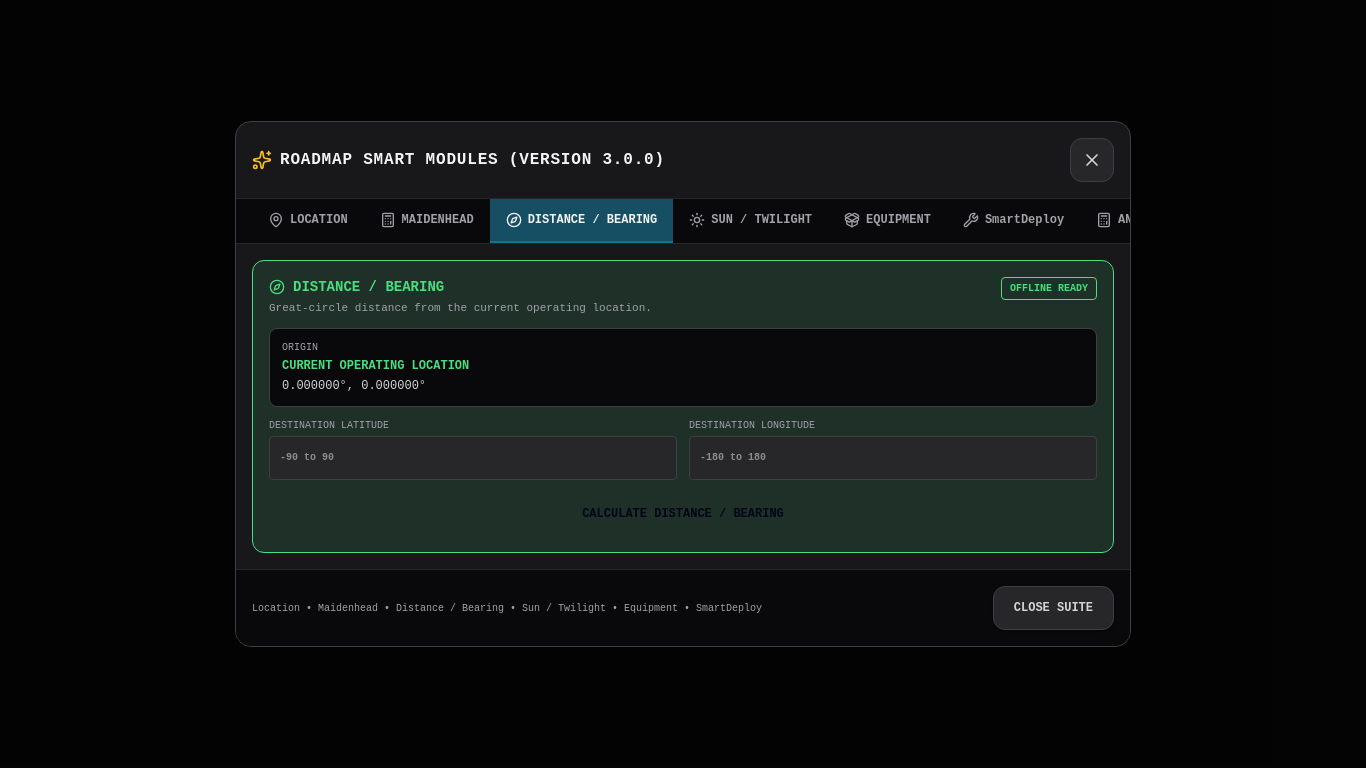
Test: Field Tools coordinate workspace › calculates distance and bearing from the operating location
Type "1" into the field labelled "Destination latitude".
click(473, 458); type("1")  # box [269,436,677,480]
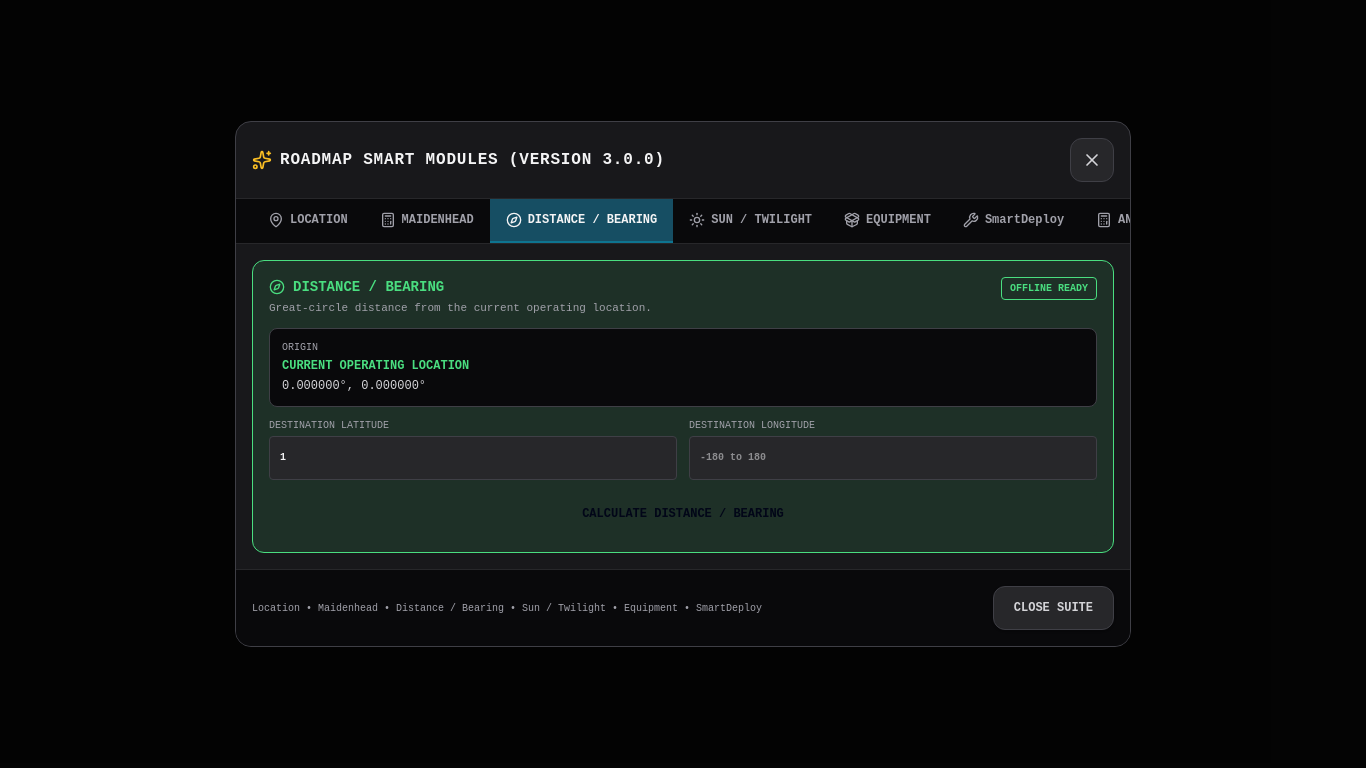
Type "0" into the field labelled "Destination longitude".
click(893, 458); type("0")  # box [689,436,1097,480]
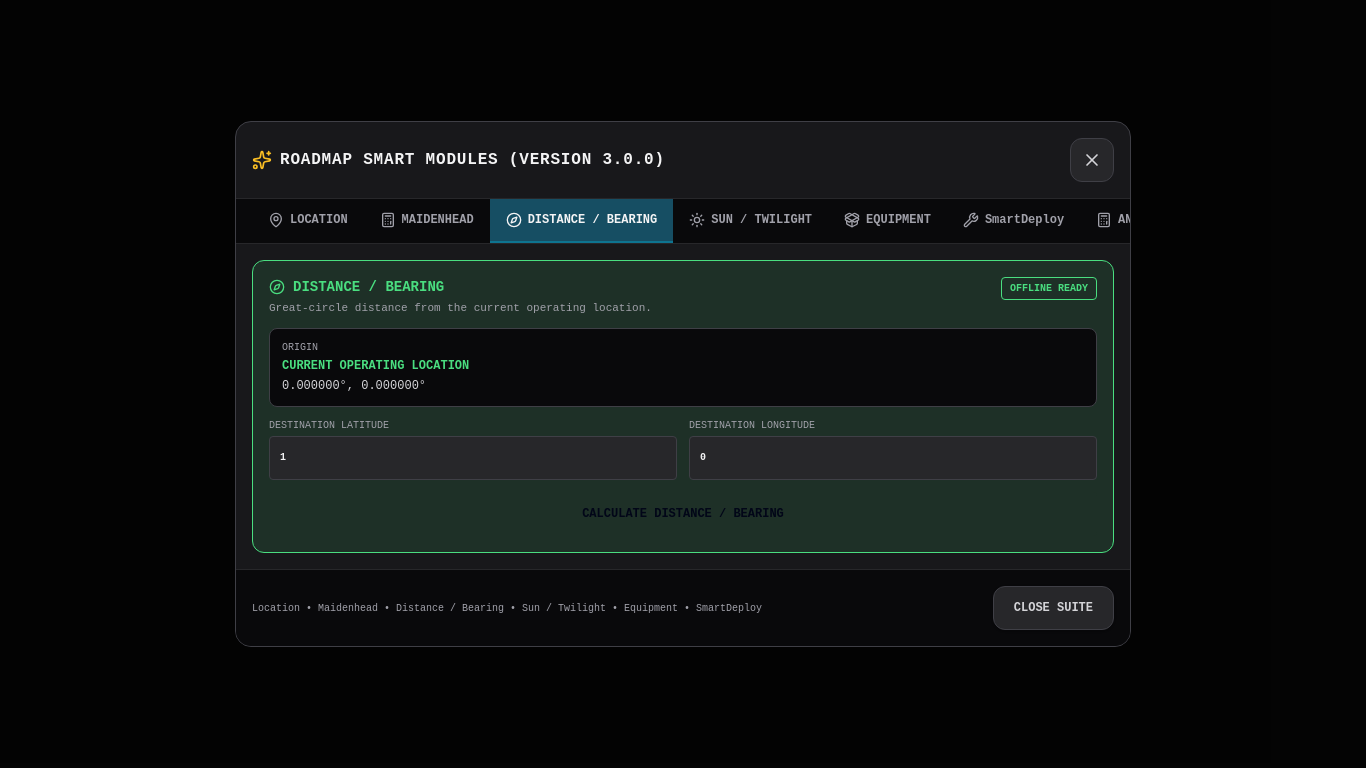
Click the button "CALCULATE DISTANCE / BEARING".
click(683, 514)  # box [269,492,1097,536]
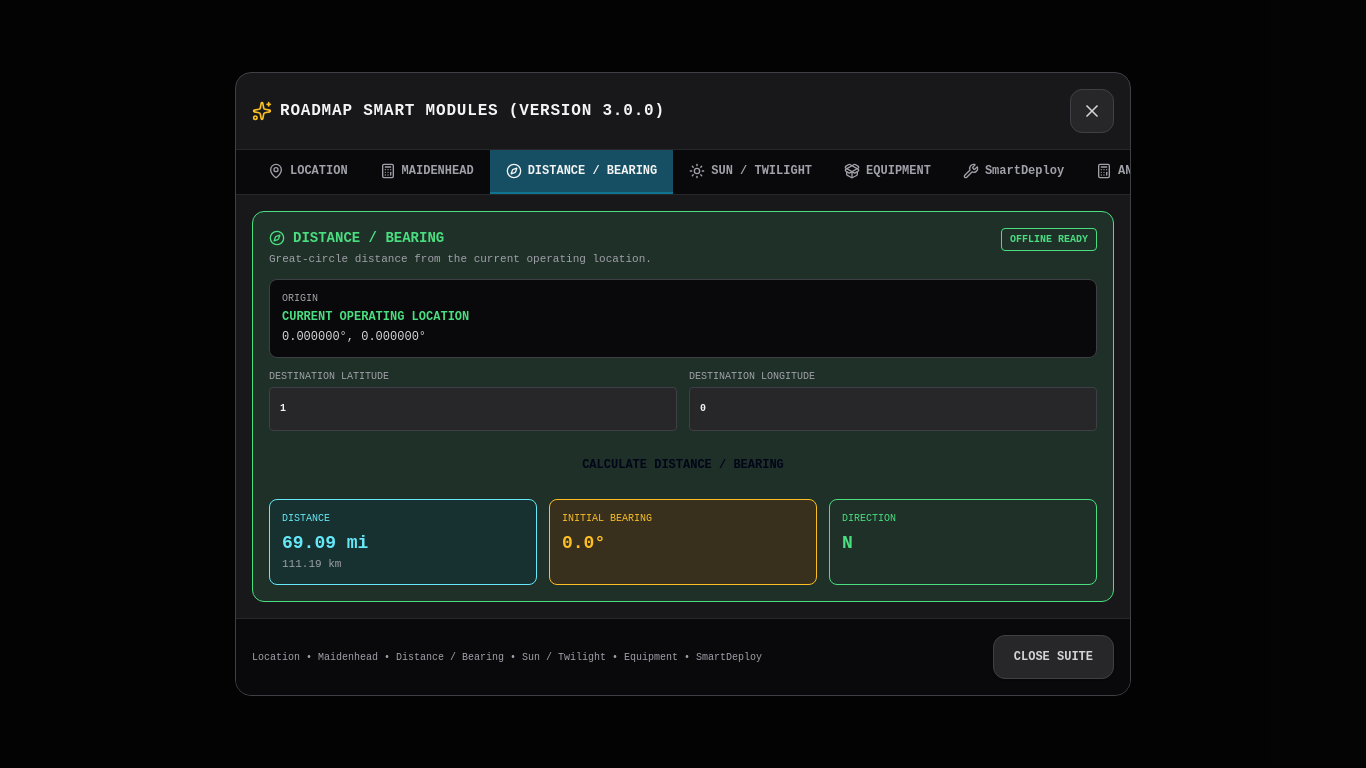
Expected: the text "DISTANCE" is shown, [282,513,330,524]
Expected: the text "0.0°" is shown, [562,534,605,554]
Expected: the text "N" is shown, [842,534,853,554]
